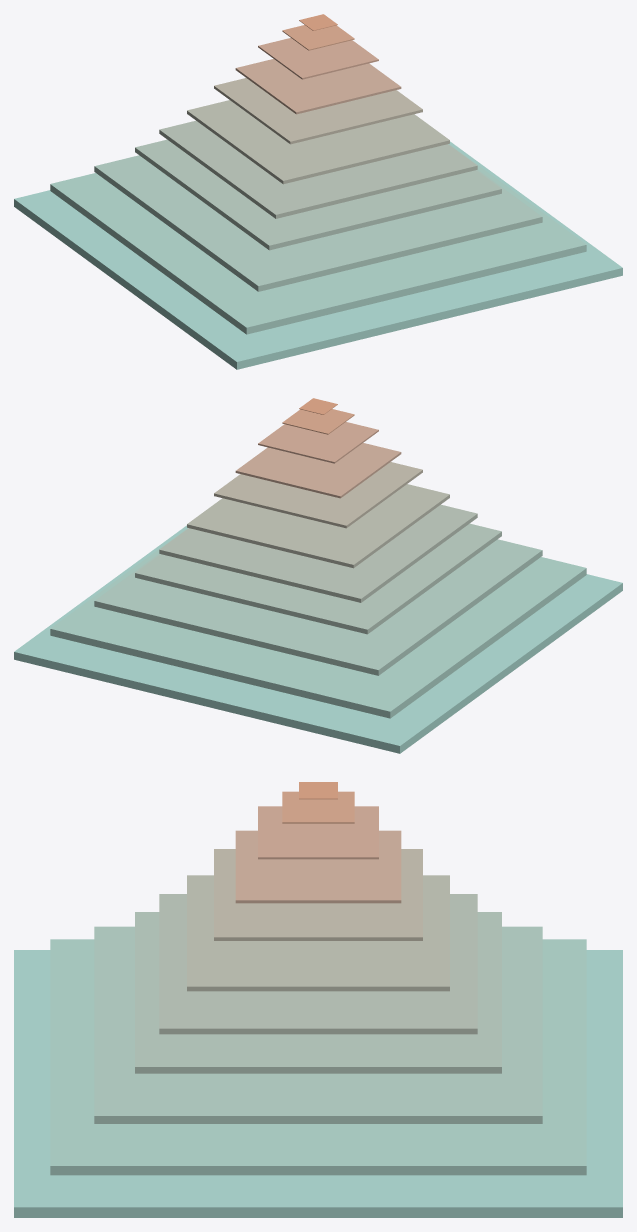
The model's file is building01_anim.fbx.
3 renders of one model, top to bottom at view 1: azimuth 30°, elevation 25°; view 2: azimuth 150°, elevation 25°; view 3: azimuth 270°, elevation 25°, orthographic. The views are drawn at different scales.
Visible parts, largest first — view 1: pCube68, pCube67, pCube69, pCube70, pCube71, pCube72, pCube73, pCube74, pCube75, pCube76; view 2: pCube68, pCube67, pCube69, pCube70, pCube71, pCube72, pCube73, pCube74, pCube75, pCube76; view 3: pCube68, pCube67, pCube69, pCube70, pCube71, pCube72, pCube73, pCube74, pCube75, pCube76, pCube77.
Part boxes in pixels (x1,y1,x2,y2): pCube68: (50, 144, 586, 334); pCube67: (14, 141, 622, 369); pCube69: (94, 155, 542, 291); pCube70: (135, 139, 501, 250); pCube71: (159, 120, 477, 218); pCube72: (187, 100, 449, 184); pCube73: (214, 78, 422, 144); pCube74: (235, 59, 401, 114); pCube75: (258, 38, 378, 79); pCube76: (282, 25, 354, 50); pCube68: (50, 528, 586, 718); pCube67: (14, 525, 622, 753); pCube69: (94, 539, 542, 675); pCube70: (135, 523, 501, 634); pCube71: (159, 504, 477, 602); pCube72: (187, 484, 449, 568); pCube73: (214, 462, 422, 528); pCube74: (235, 443, 401, 498); pCube75: (258, 422, 378, 463); pCube76: (282, 409, 354, 434); pCube68: (50, 939, 586, 1175); pCube67: (14, 950, 622, 1217); pCube69: (94, 926, 542, 1123); pCube70: (135, 912, 501, 1073); pCube71: (159, 894, 477, 1034); pCube72: (187, 875, 449, 991); pCube73: (214, 849, 422, 940); pCube74: (235, 830, 401, 903); pCube75: (258, 806, 378, 859); pCube76: (282, 791, 354, 823); pCube77: (299, 782, 337, 799).
Bounding box in the file's own units: 1312 × 710 × 1312.
